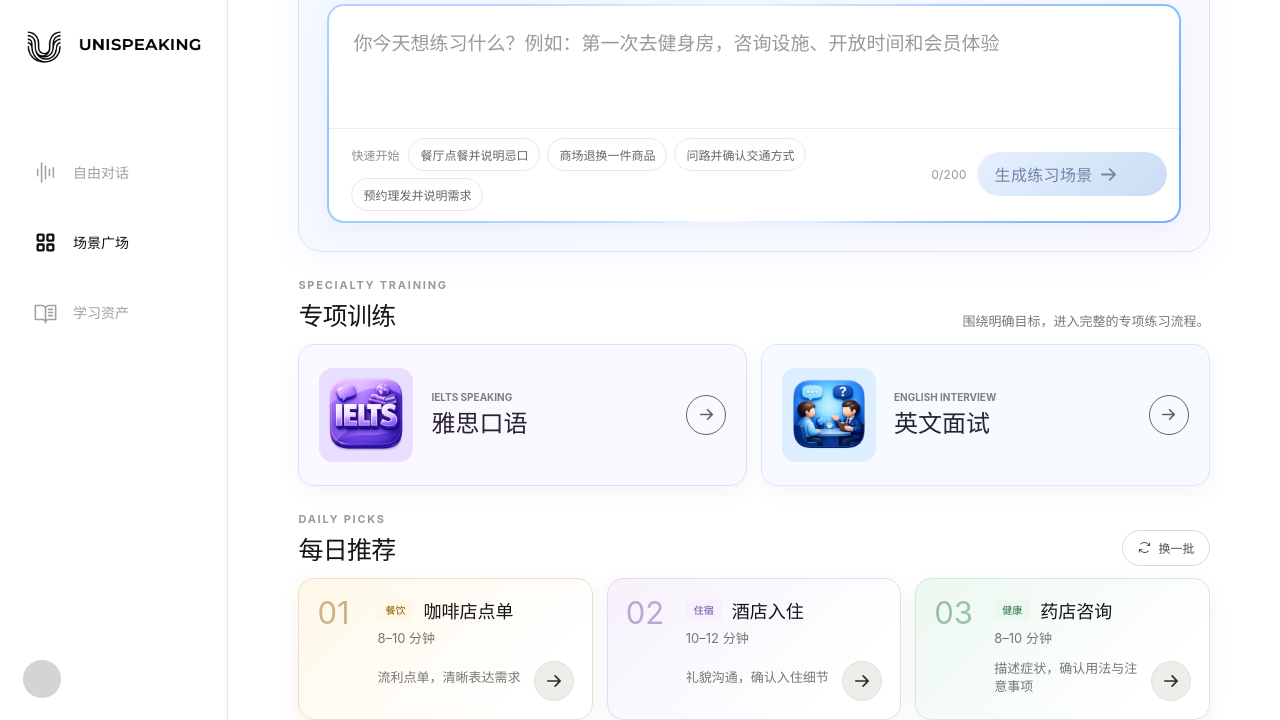
Test: App › covers daily recommendation refresh and recommendation-generated preview
The width and height of the screenshot is (1280, 720).
(page scrolled)
Click the button "换一批" at (1166, 548), box [1122,530,1210,566]
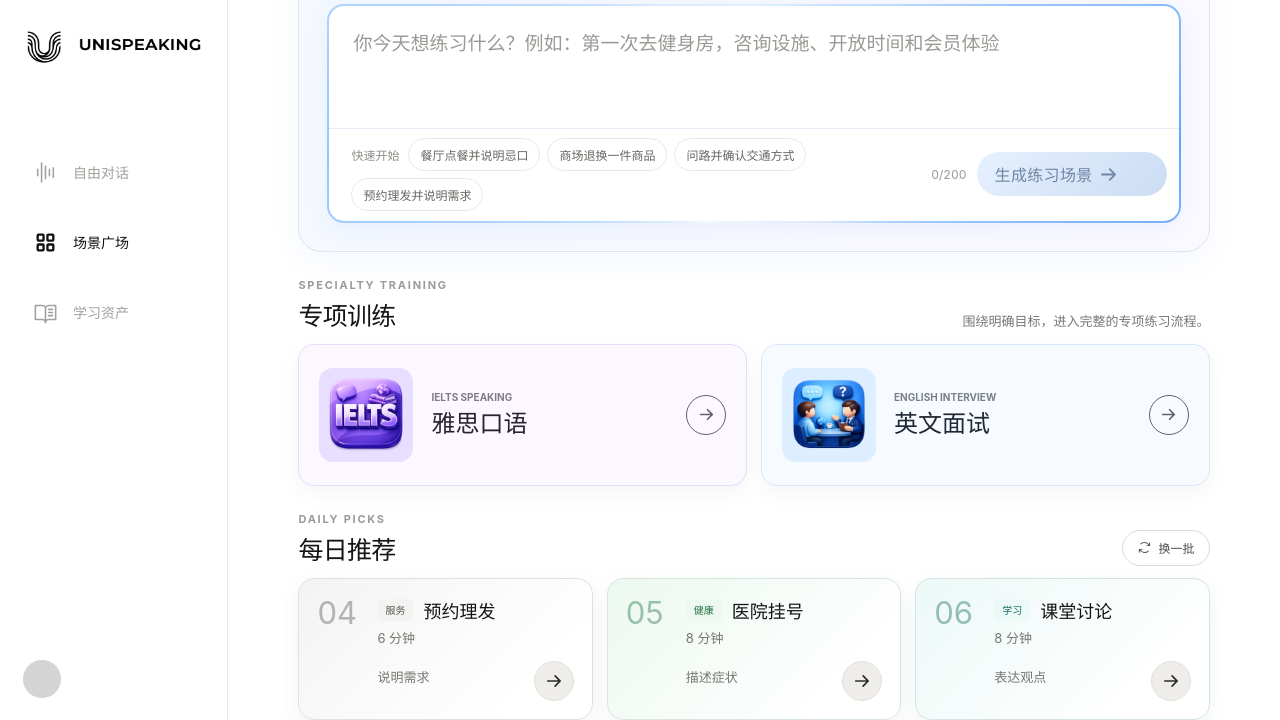
Result: the text "预约理发" is shown at [423,597,495,623]
Click the button named "开始练习 预约理发 场景" at (554, 681), box [534,661,574,701]
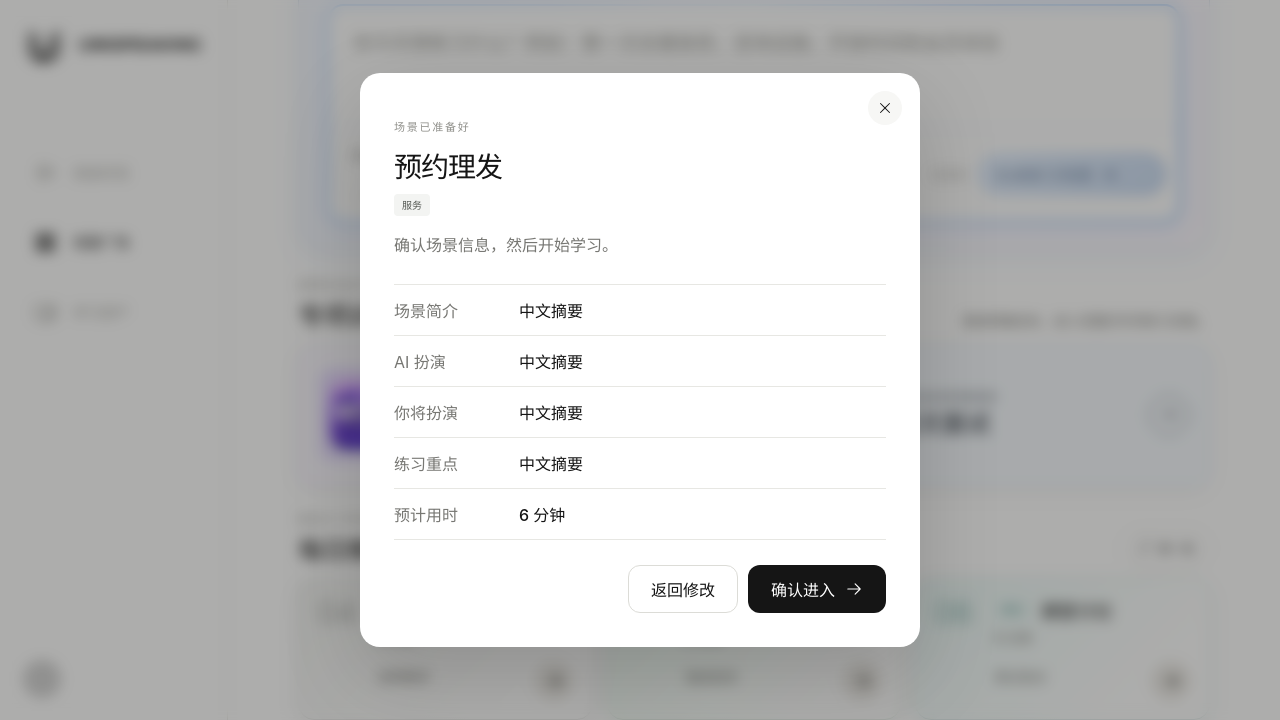
Result: the text "场景已准备好" is shown at [394,120,471,134]
Click the button "返回修改" at (683, 589), box [628,565,738,613]
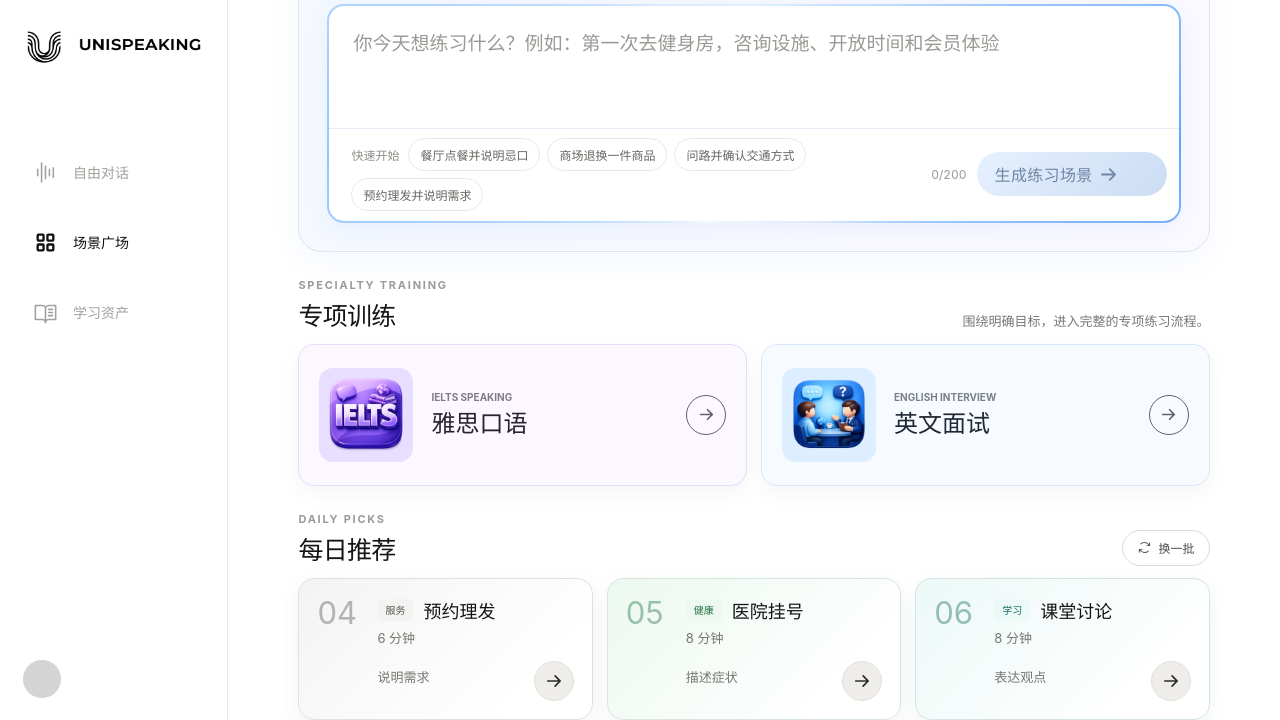
Result: the text "场景已准备好" is gone
